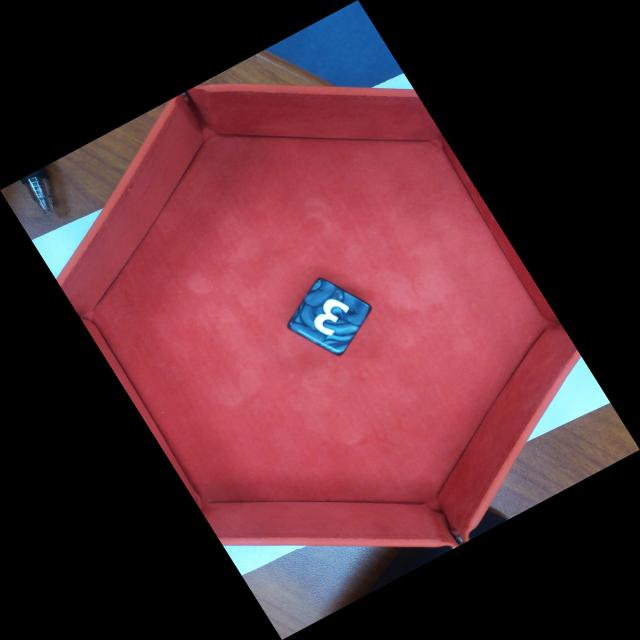dice: (286, 278, 373, 357)
